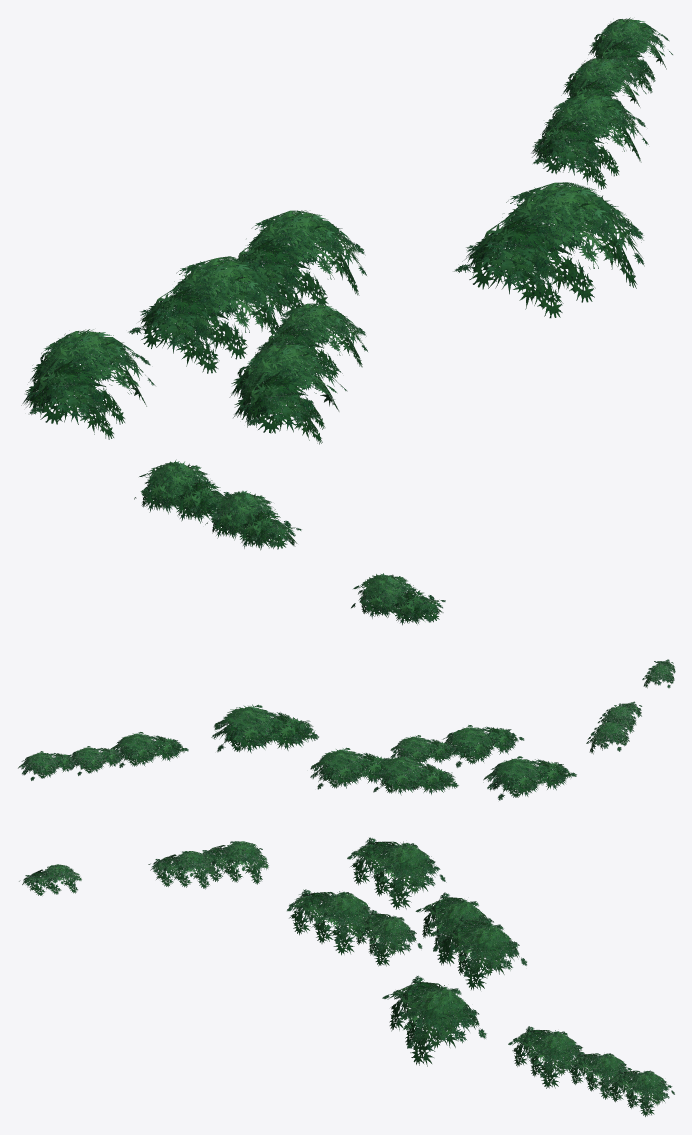
File: Area_10_10.fbx
3 renders of one model, top to bottom at view 1: azimuth 30°, elevation 25°; view 2: azimuth 150°, elevation 25°; view 3: azimuth 270°, elevation 25°, orthographic. The views are drawn at different scales.
Parts seen in each view (by area): view 1: Area_10_10; view 2: Area_10_10; view 3: Area_10_10.
Part boxes in pixels (<box>): Area_10_10: <box>21,17,672,625</box>; Area_10_10: <box>18,659,675,800</box>; Area_10_10: <box>19,837,674,1116</box>.
Size of the model in its own units: 4692 by 572 by 5153.
